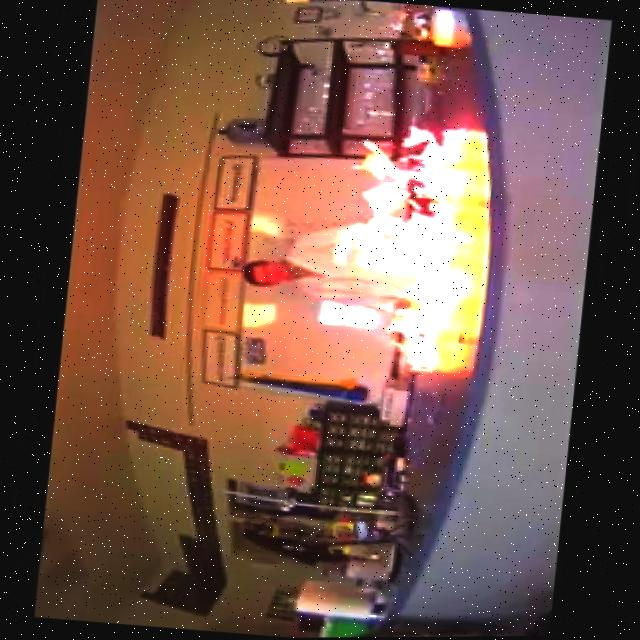Fire: (316, 116, 472, 381)
